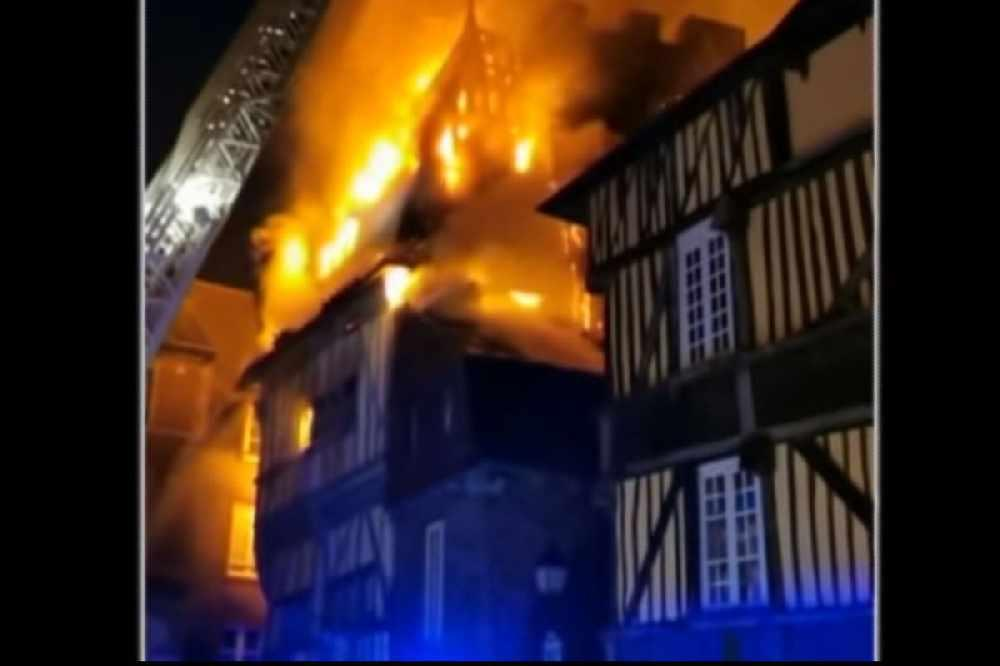Fire: (241, 2, 661, 397)
